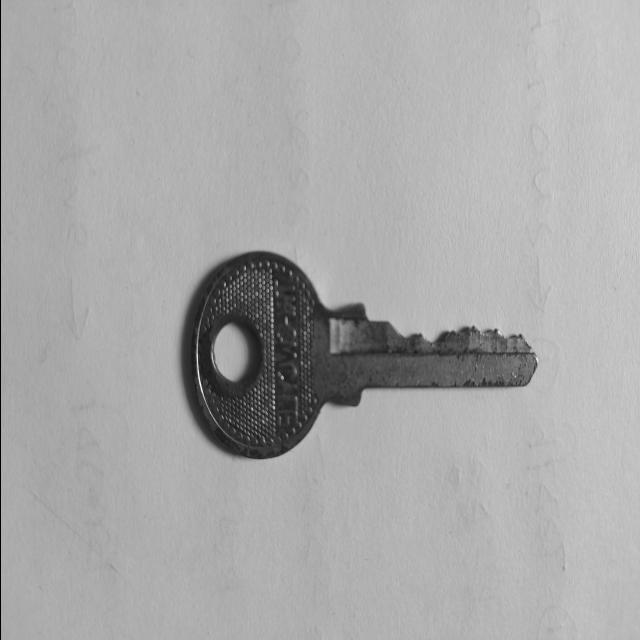key: (191, 252, 537, 459)
